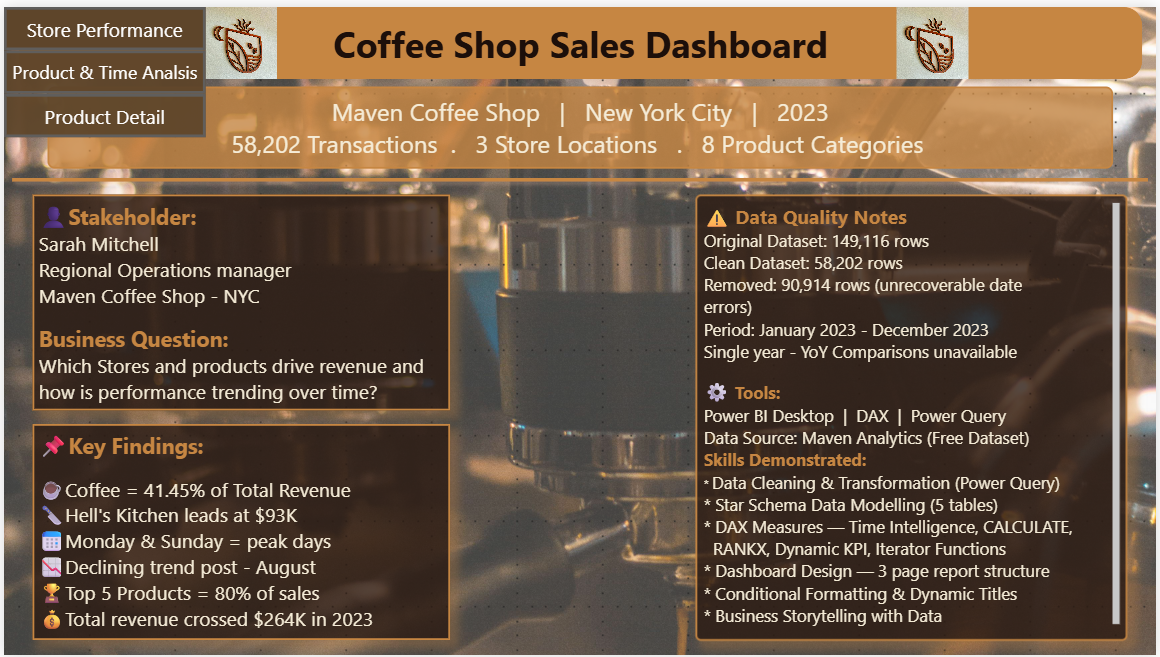

Layout of this report page (visuals, bound fields, positions):
{"tool":"powerbi","page":{"name":"Cover","canvas":[1280,720],"ordinal":0},"visuals":[{"type":"shape","box":[224,0,1056,80],"z":0},{"type":"textbox","box":[224,88,1008,91],"z":1000},{"type":"shape","box":[0,160,1280,64],"z":2000},{"type":"textbox","box":[32,208,464,240],"z":3000},{"type":"textbox","box":[32,464,464,240],"z":4000},{"type":"textbox","box":[768,208,480,496],"z":5000},{"type":"image","box":[1200,0,80,80],"z":6000},{"type":"image","box":[224,0,80,80],"z":7000},{"type":"actionButton","box":[0,0,224,64],"z":8000},{"type":"actionButton","box":[0,60,224,65],"z":9000},{"type":"actionButton","box":[0,118,224,64],"z":10000}]}

Visuals, with their boxes in screenshot pixels (x1, y1, x2, y2), scaled from the page's 1280x720 canvas onto the 1160x657 screenshot:
shape: <box>203,0,1159,73</box>
textbox: <box>203,80,1116,163</box>
shape: <box>0,146,1159,204</box>
textbox: <box>29,190,450,409</box>
textbox: <box>29,423,450,642</box>
textbox: <box>696,190,1131,642</box>
image: <box>1088,0,1159,73</box>
image: <box>203,0,276,73</box>
actionButton: <box>0,0,203,58</box>
actionButton: <box>0,55,203,114</box>
actionButton: <box>0,108,203,166</box>
